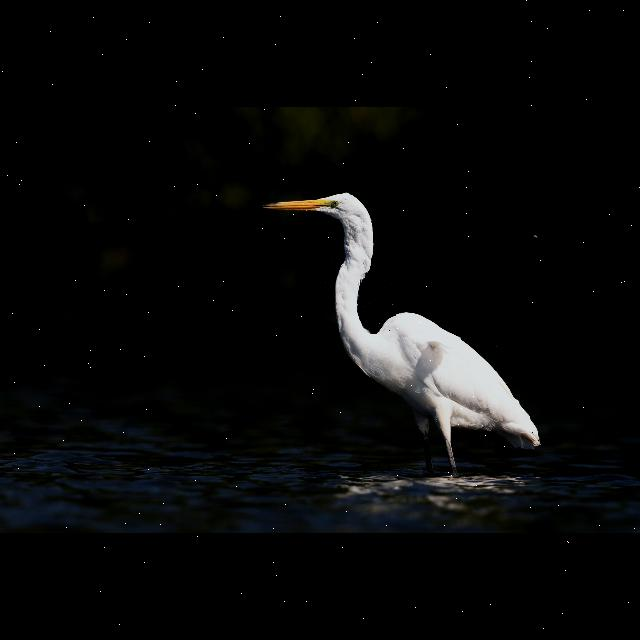egret: (260, 186, 542, 482)
